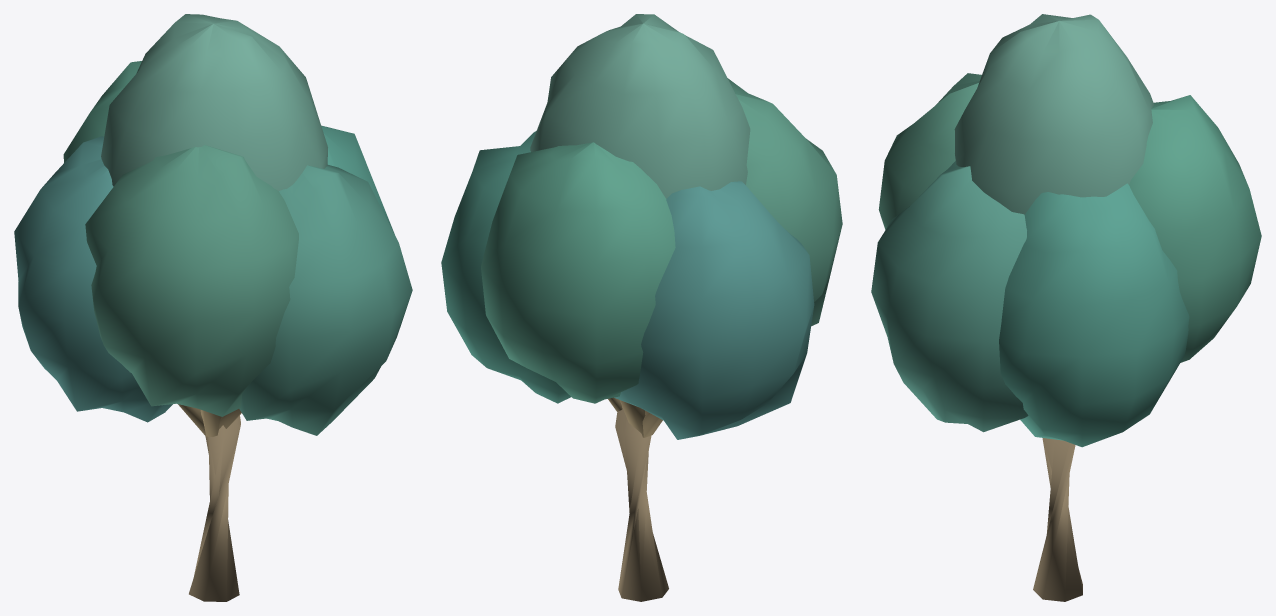
The model's file is tree1.glb.
The picture shows the model from 3 angles, left to right: view 1: azimuth 30°, elevation 25°; view 2: azimuth 150°, elevation 25°; view 3: azimuth 270°, elevation 25°; orthographic projection.
Visible parts, largest first — view 1: Tree1_leaf, Tree1_bark; view 2: Tree1_leaf, Tree1_bark; view 3: Tree1_leaf, Tree1_bark.
Part boxes in pixels (box(x1,y1,x2,y2)): Tree1_leaf: box(14, 14, 412, 435); Tree1_bark: box(178, 404, 241, 601); Tree1_leaf: box(441, 14, 842, 439); Tree1_bark: box(608, 397, 668, 601); Tree1_leaf: box(871, 14, 1261, 447); Tree1_bark: box(1033, 438, 1082, 601).
Size of the model in its own units: 0.592 by 0.9094 by 0.5645.
